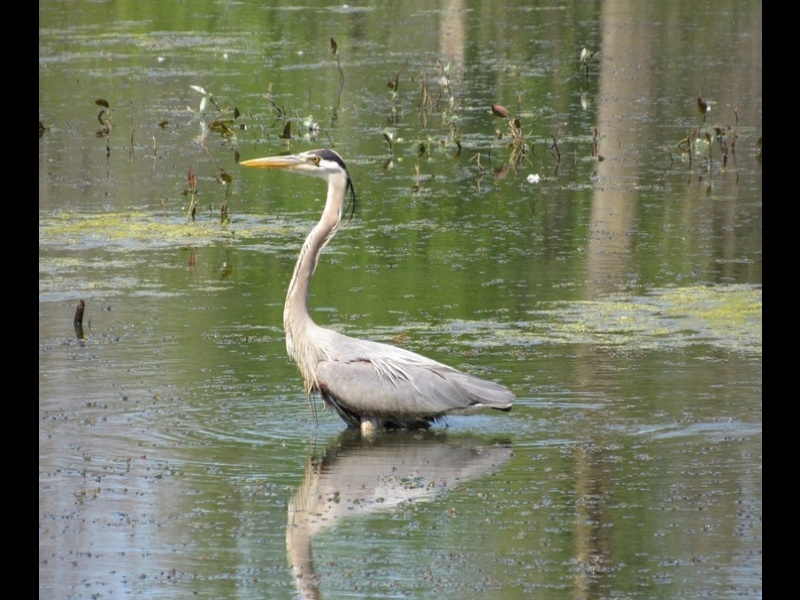heron: (235, 144, 521, 443)
